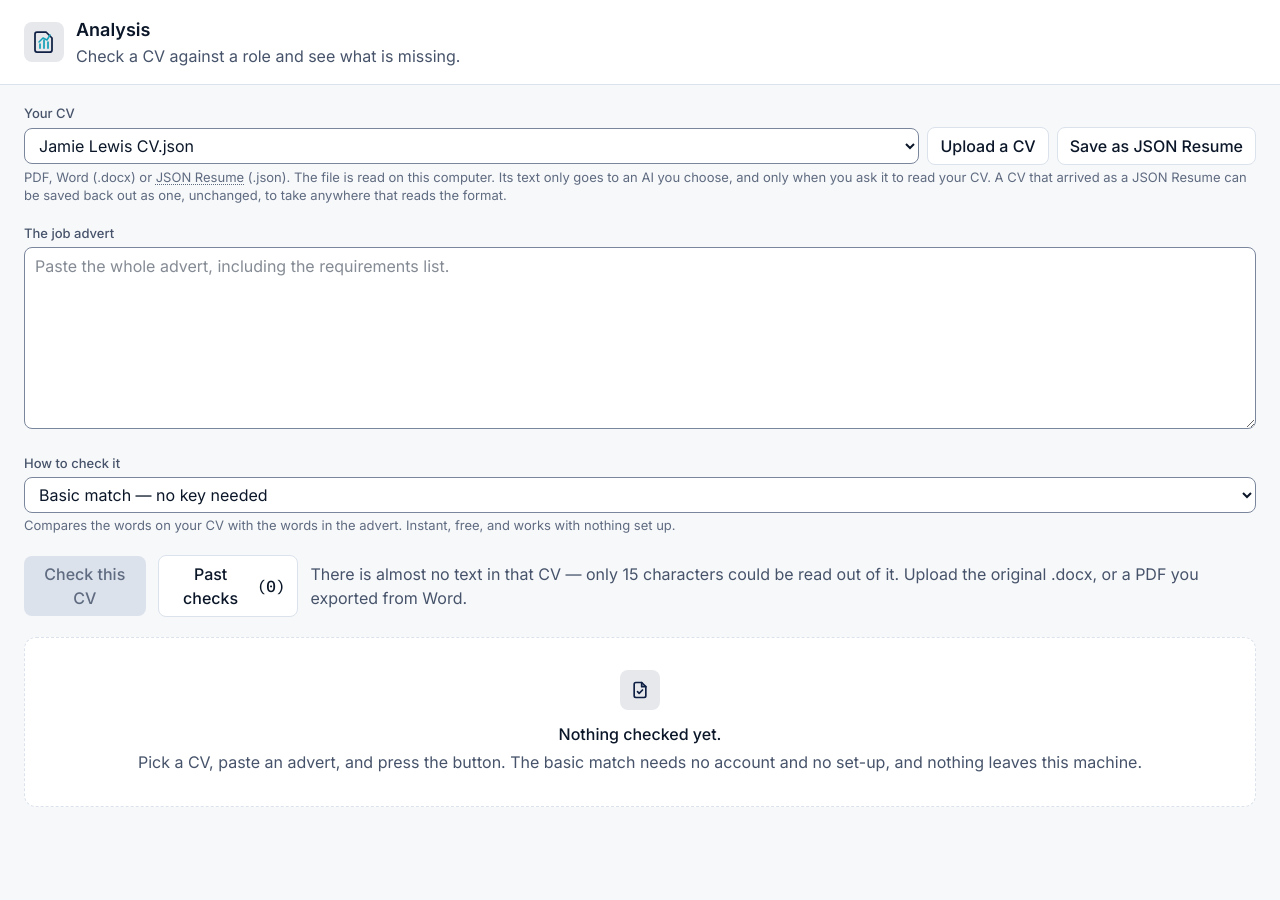
Test: Save as JSON Resume › boundary: a stored original that no longer parses is refused before the dialog opens
Check: the dropdown with test id "analysis-provider" is shown, box [24,477,1256,513]
What coordinates should you click on to do the following:
click the button with test id "analysis-save-json"
I would click on:
 (1156, 146)
Its box is [1057,127,1256,165].
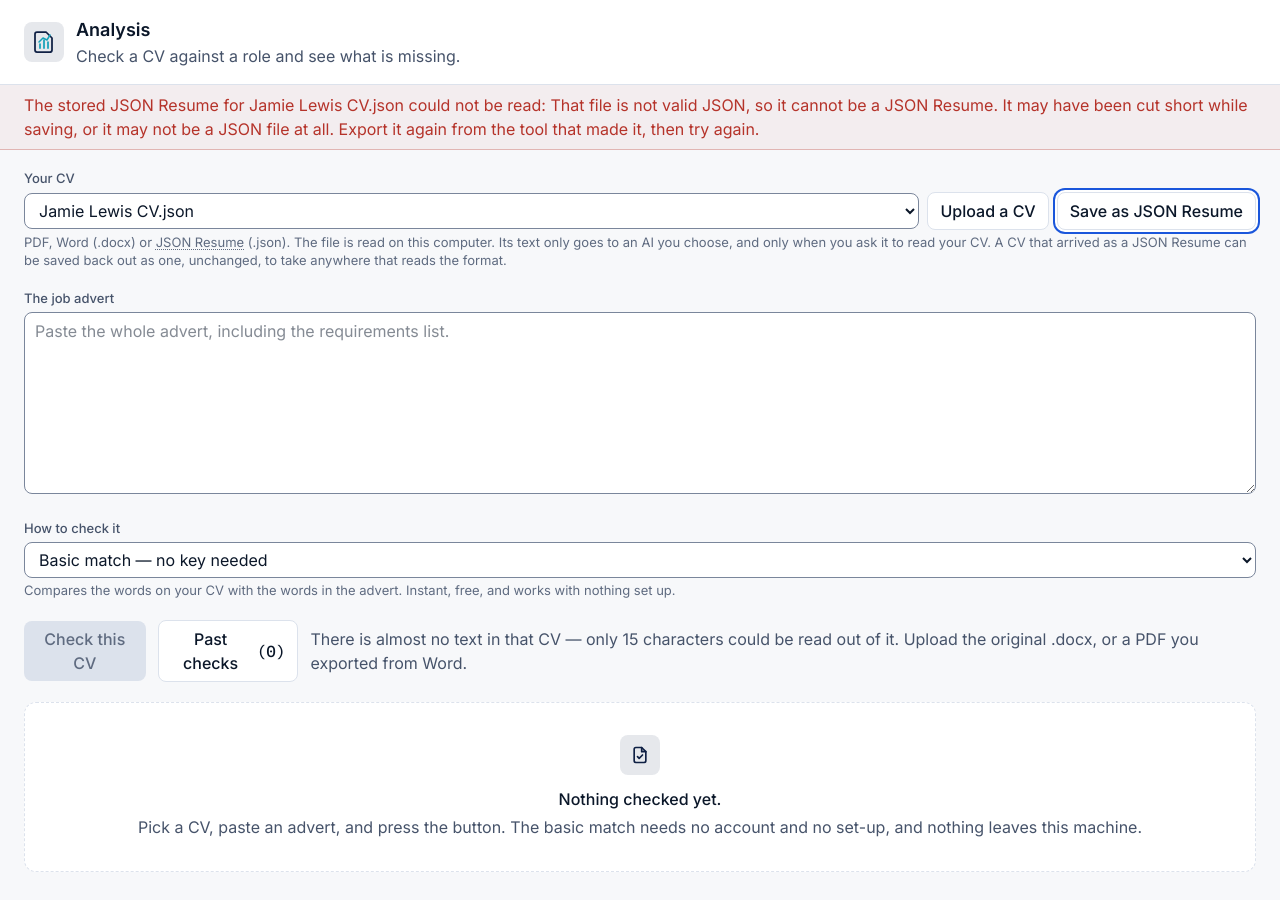
Check: the message with test id "analysis-error" shows "could not be read", box [24,95,1248,139]
